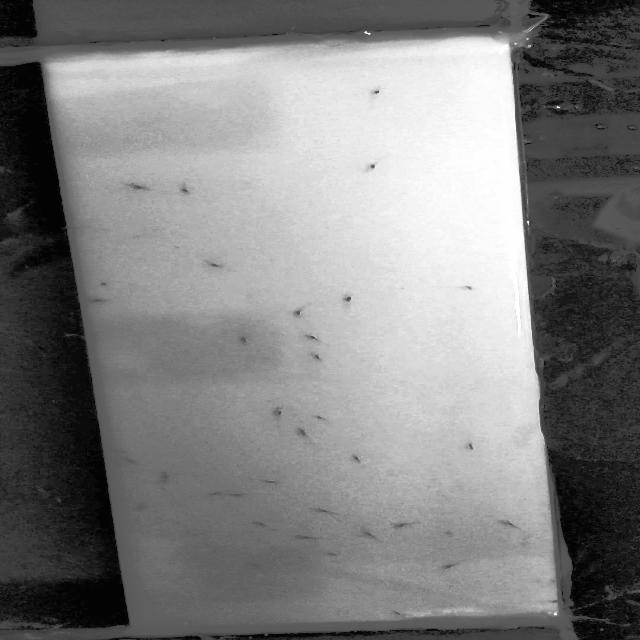shrimp: (362, 152, 394, 171), (99, 439, 131, 457), (245, 560, 278, 574), (306, 506, 348, 517), (176, 185, 206, 200), (198, 257, 230, 271), (369, 80, 397, 96), (498, 517, 520, 537), (289, 303, 316, 319), (155, 470, 178, 488), (288, 534, 324, 544), (273, 401, 291, 421), (344, 294, 359, 316), (394, 517, 421, 529), (127, 180, 153, 192), (250, 476, 283, 485), (132, 495, 150, 511), (78, 296, 113, 304), (104, 458, 122, 473), (297, 426, 316, 440), (204, 488, 236, 496), (253, 519, 276, 530), (120, 458, 148, 467), (311, 351, 329, 365), (442, 561, 469, 570), (302, 334, 326, 344), (460, 284, 484, 294), (95, 279, 118, 289), (349, 453, 368, 465), (240, 333, 260, 344), (222, 493, 258, 499), (66, 220, 84, 232), (461, 441, 478, 453), (311, 415, 330, 425), (361, 533, 382, 541), (322, 553, 344, 560), (387, 609, 406, 617)
